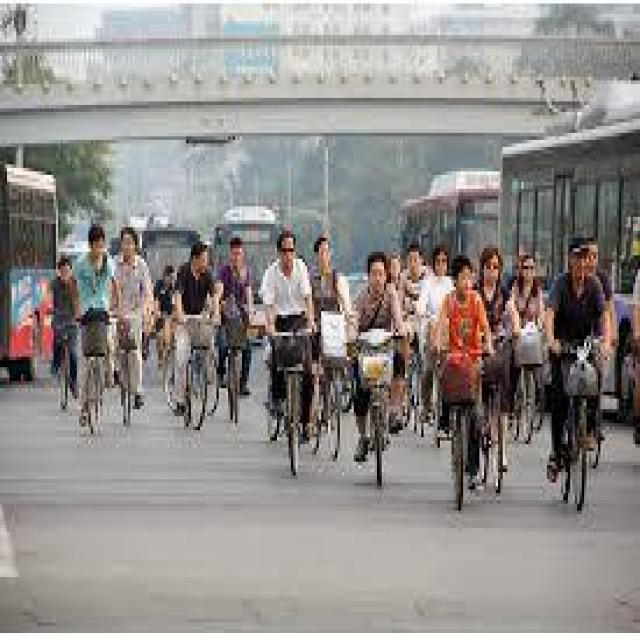bicycle: (550, 347, 604, 512), (441, 366, 502, 509), (355, 330, 402, 484), (269, 330, 313, 481), (313, 326, 357, 466), (478, 365, 511, 502), (78, 312, 111, 438), (113, 316, 141, 428), (515, 351, 546, 446), (185, 333, 215, 431), (161, 316, 185, 418), (222, 323, 246, 425), (57, 323, 81, 418)
